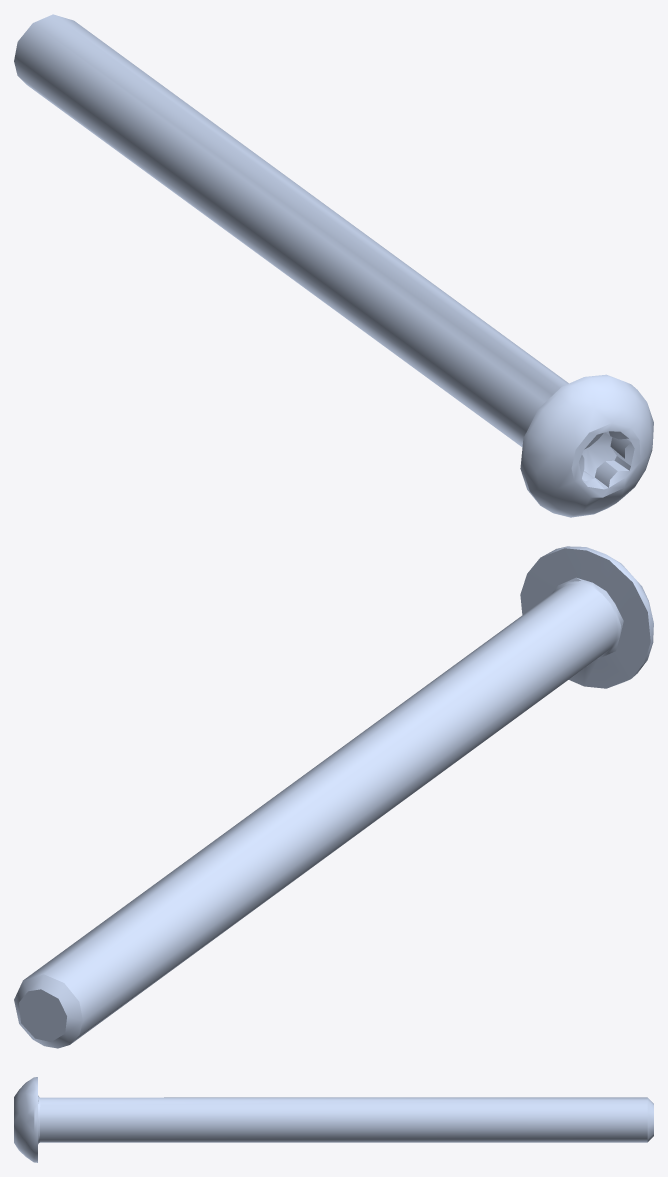
Rendered from _8-32_x_2_250_Star_Drive_Screw__276-8015_.glb.
3 renders of one model, top to bottom at view 1: azimuth 30°, elevation 25°; view 2: azimuth 150°, elevation 25°; view 3: azimuth 270°, elevation 25°, orthographic. The views are drawn at different scales.
Parts seen in each view (by area): view 1: #8-32 x 2.250 Star Drive Screw (276-8015); view 2: #8-32 x 2.250 Star Drive Screw (276-8015); view 3: #8-32 x 2.250 Star Drive Screw (276-8015).
Boxes of the visible parts, x1=… form: #8-32 x 2.250 Star Drive Screw (276-8015): x1=14, y1=14, x2=653, y2=517; #8-32 x 2.250 Star Drive Screw (276-8015): x1=14, y1=546, x2=653, y2=1048; #8-32 x 2.250 Star Drive Screw (276-8015): x1=14, y1=1077, x2=653, y2=1162.
Size of the model in its own units: 0.3123 by 0.3131 by 2.34.
